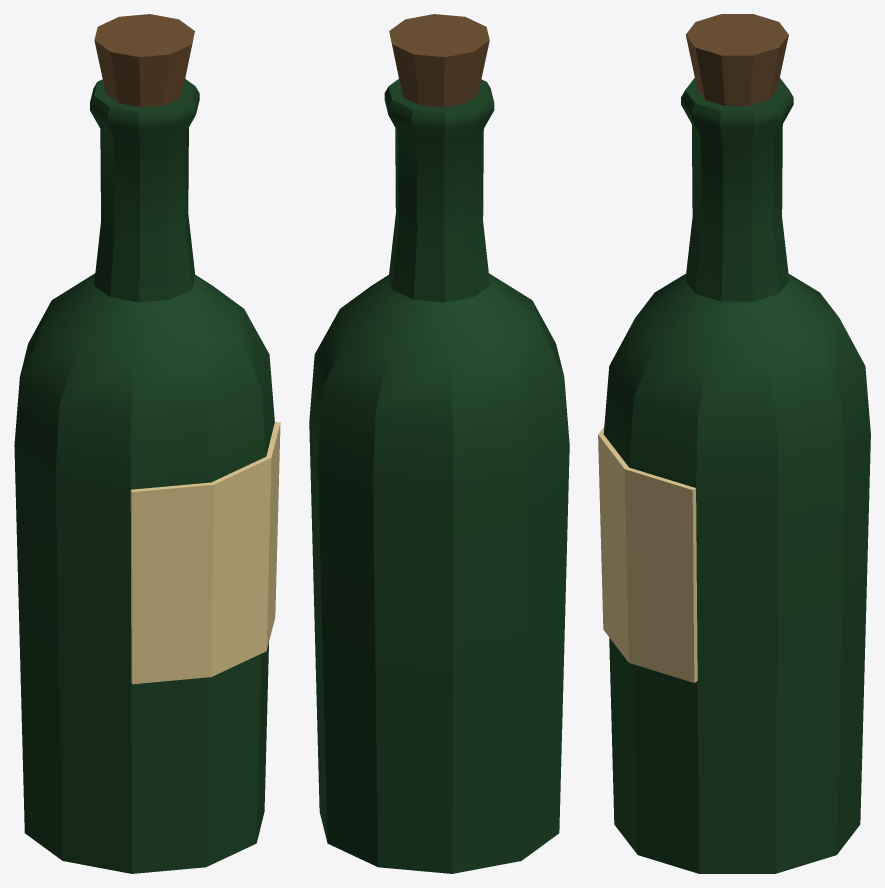
File: Flasche.fbx
3 views of the same model, side by side, from view 1: azimuth 30°, elevation 25°; view 2: azimuth 150°, elevation 25°; view 3: azimuth 270°, elevation 25° (orthographic).
Parts seen in each view (by area): view 1: Flasche; view 2: Flasche; view 3: Flasche.
Boxes of the visible parts, x1,y1,x2,y2 form: Flasche: (14,14,280,873); Flasche: (309,14,569,873); Flasche: (598,14,870,873).
Size of the model in its own units: 44.45 by 150 by 46.88.
